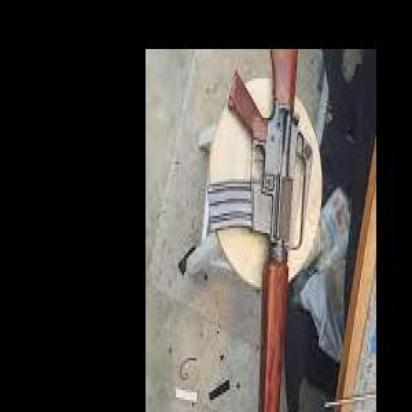Gun: (207, 49, 300, 412)
